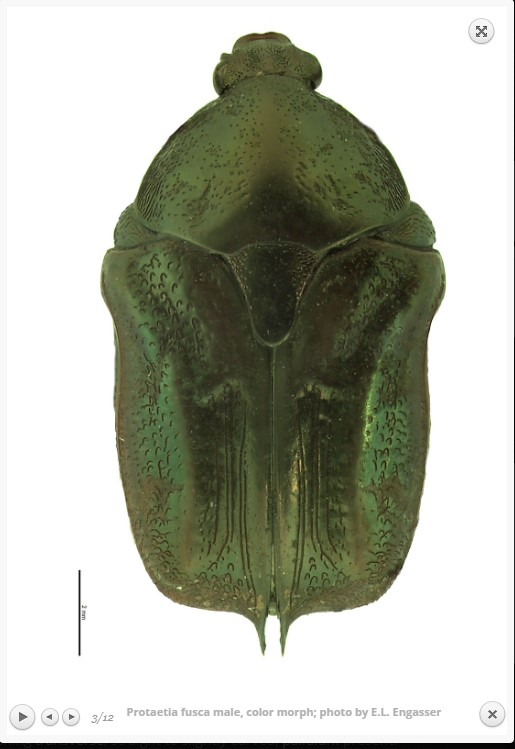Protaetia_fusca: (98, 22, 450, 664)
